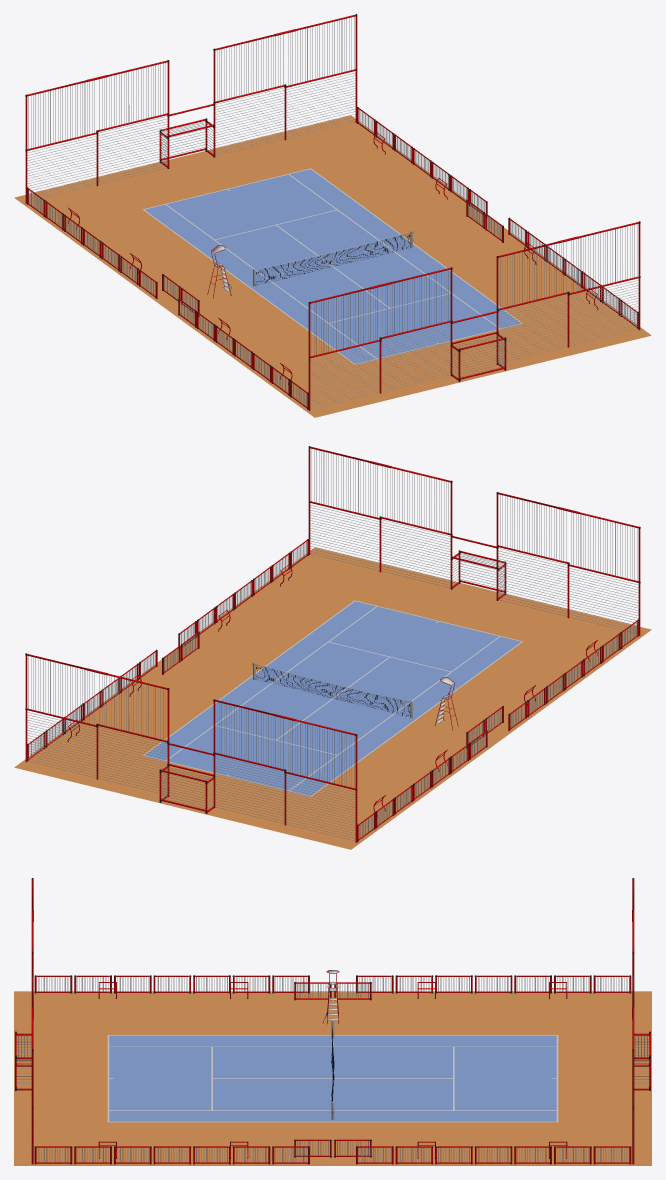
Rendered from Tennis court.fbx.
The picture shows the model from 3 angles, top to bottom: view 1: azimuth 30°, elevation 25°; view 2: azimuth 150°, elevation 25°; view 3: azimuth 270°, elevation 25°; orthographic projection. The views are drawn at different scales.
Visible parts, largest first — view 1: tennis Ground.Shape, Fence Base.Shape, tennis Ground.Shape.001; view 2: tennis Ground.Shape, Fence Base.Shape, tennis Ground.Shape.001; view 3: tennis Ground.Shape, tennis Ground.Shape.001, Fence Base.Shape.
Part boxes in pixels (bbox=[...]): tennis Ground.Shape: bbox=[14, 115, 651, 417]; Fence Base.Shape: bbox=[25, 14, 640, 410]; tennis Ground.Shape.001: bbox=[143, 168, 522, 364]; tennis Ground.Shape: bbox=[14, 547, 651, 849]; Fence Base.Shape: bbox=[25, 446, 640, 842]; tennis Ground.Shape.001: bbox=[143, 600, 522, 796]; tennis Ground.Shape: bbox=[14, 991, 651, 1165]; tennis Ground.Shape.001: bbox=[107, 1035, 558, 1122]; Fence Base.Shape: bbox=[15, 878, 650, 1164].
Size of the model in its own units: 2200 by 680 by 3400.
